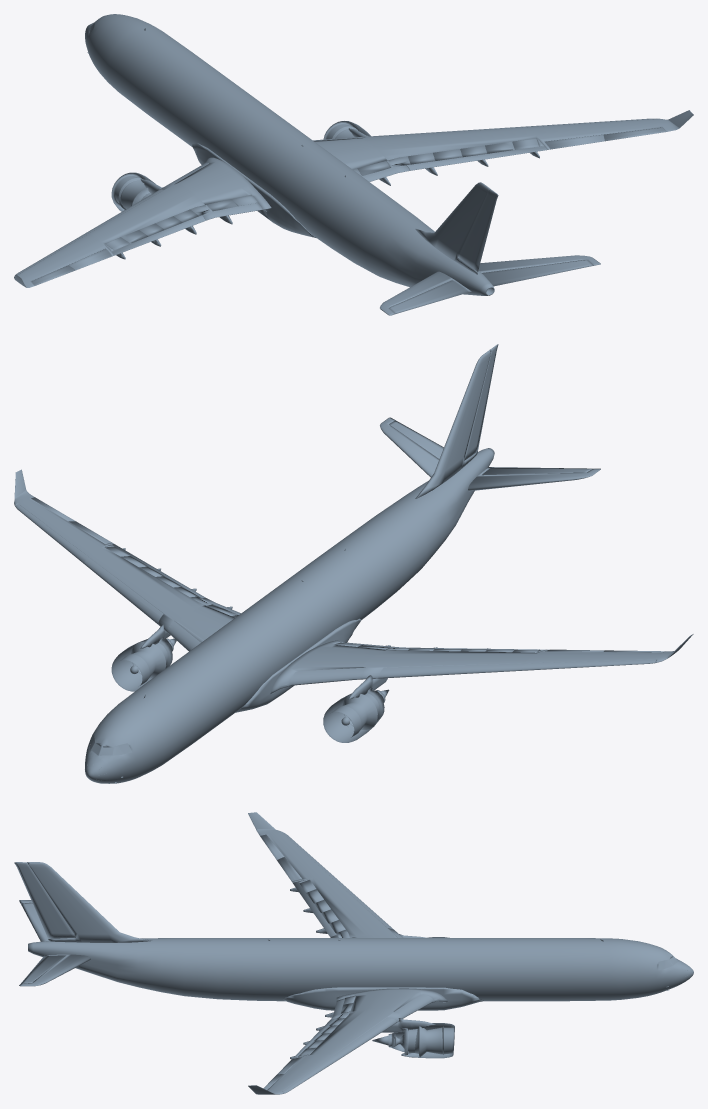
3 views of the same model, one above another, from view 1: azimuth 30°, elevation 25°; view 2: azimuth 150°, elevation 25°; view 3: azimuth 270°, elevation 25° (orthographic). The views are drawn at different scales.
Bounding box in the file's own units: 59.91 × 15.52 × 63.05.
